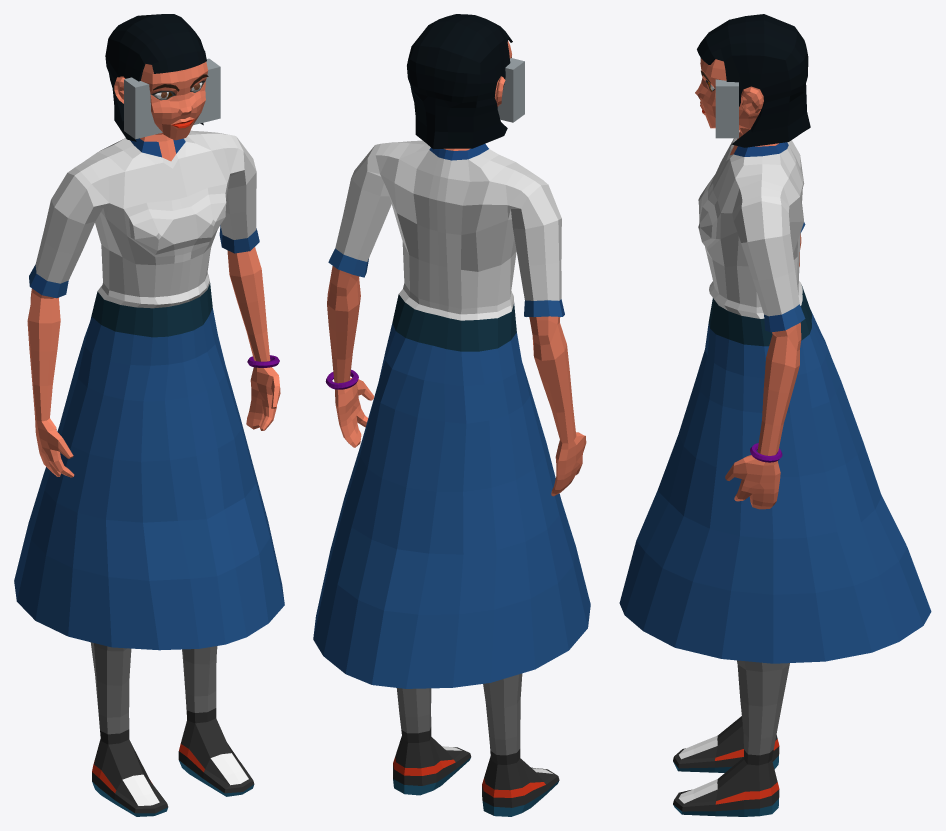
Rendered from StudentFemale_Stand_Mask.fbx.
The picture shows the model from 3 angles, left to right: view 1: azimuth 30°, elevation 25°; view 2: azimuth 150°, elevation 25°; view 3: azimuth 270°, elevation 25°; orthographic projection. The views are drawn at different scales.
Parts seen in each view (by area): view 1: StudentFemale_Stand_Mask; view 2: StudentFemale_Stand_Mask; view 3: StudentFemale_Stand_Mask.
Part boxes in pixels (x1,y1,x2,y2): StudentFemale_Stand_Mask: [14, 14, 284, 816]; StudentFemale_Stand_Mask: [313, 14, 590, 816]; StudentFemale_Stand_Mask: [619, 14, 931, 816].
Bounding box in the file's own units: 0.2686 × 0.8062 × 0.2977.
